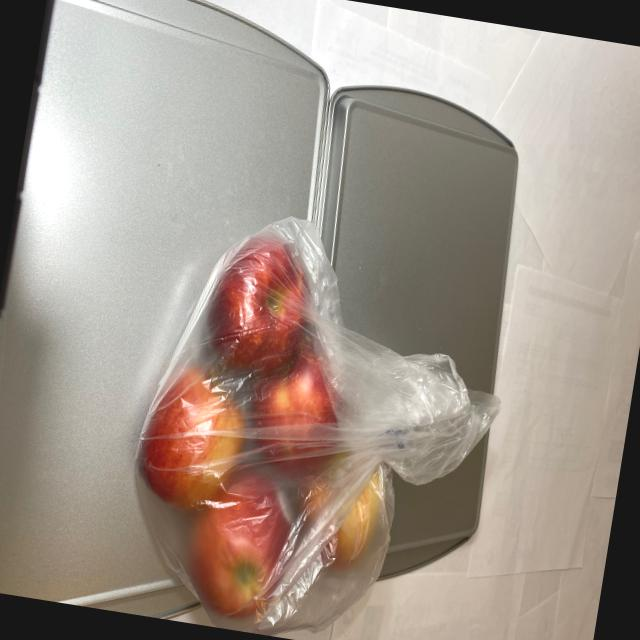apple: (106, 215, 467, 640)
